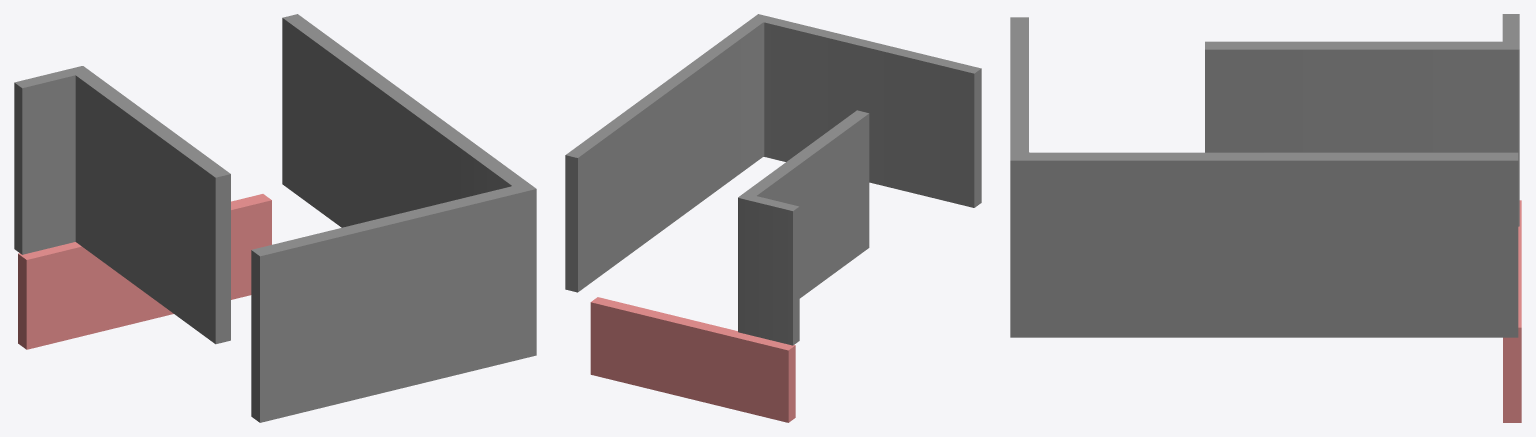
The model's file is S_Envi_FZFBase_Wall_03n.gltf.
3 views of the same model, side by side, from view 1: azimuth 30°, elevation 25°; view 2: azimuth 150°, elevation 25°; view 3: azimuth 270°, elevation 25° (orthographic). The views are drawn at different scales.
Visible parts, largest first — view 1: S_Envi_FZFBase_Wall_03n; view 2: S_Envi_FZFBase_Wall_03n; view 3: S_Envi_FZFBase_Wall_03n.
Part boxes in pixels (x1=…): S_Envi_FZFBase_Wall_03n: x1=14, y1=14, x2=536, y2=422; S_Envi_FZFBase_Wall_03n: x1=565, y1=14, x2=981, y2=422; S_Envi_FZFBase_Wall_03n: x1=1010, y1=14, x2=1521, y2=422.
Size of the model in its own units: 9.22 by 8.19 by 13.6.
